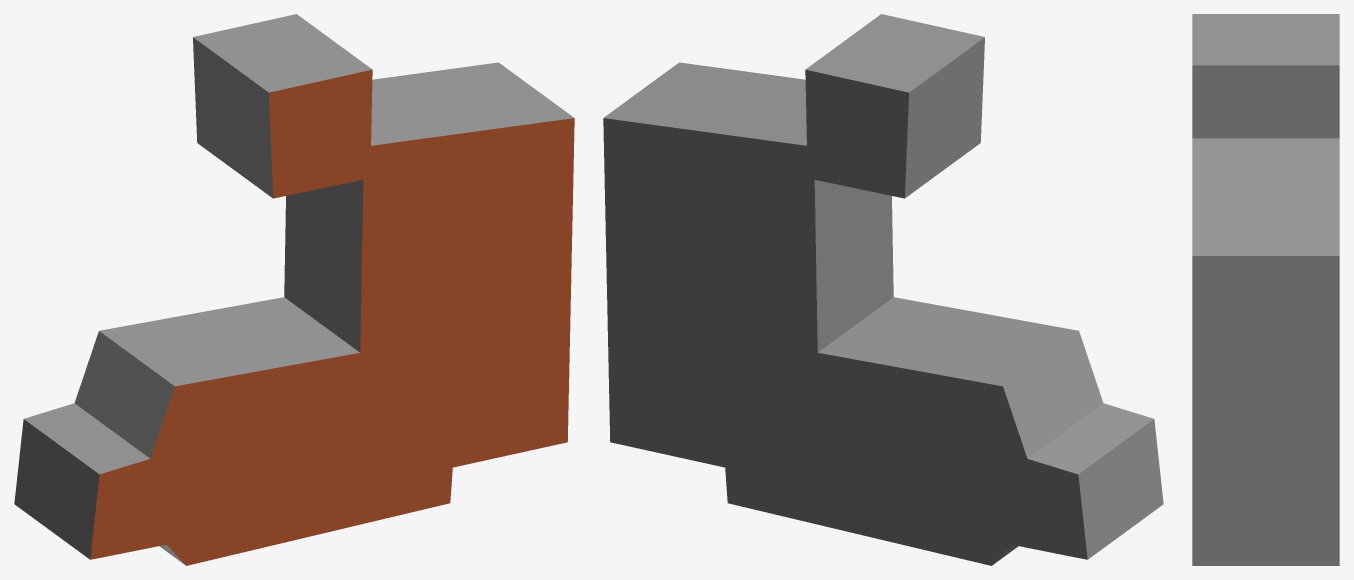
File: construction_1009_assumed_A_Casa_h6m.obj
The picture shows the model from 3 angles, left to right: view 1: azimuth 30°, elevation 25°; view 2: azimuth 150°, elevation 25°; view 3: azimuth 270°, elevation 25°; orthographic projection. The views are drawn at different scales.
Parts seen in each view (by area): view 1: construction_1009_assumed_A_Casa; view 2: construction_1009_assumed_A_Casa; view 3: construction_1009_assumed_A_Casa.
Boxes of the visible parts, <box> form: construction_1009_assumed_A_Casa: <box>14,14,574,565</box>; construction_1009_assumed_A_Casa: <box>603,14,1163,565</box>; construction_1009_assumed_A_Casa: <box>1192,14,1339,565</box>.
Bounding box in the file's own units: 22.08 × 19.82 × 6.
